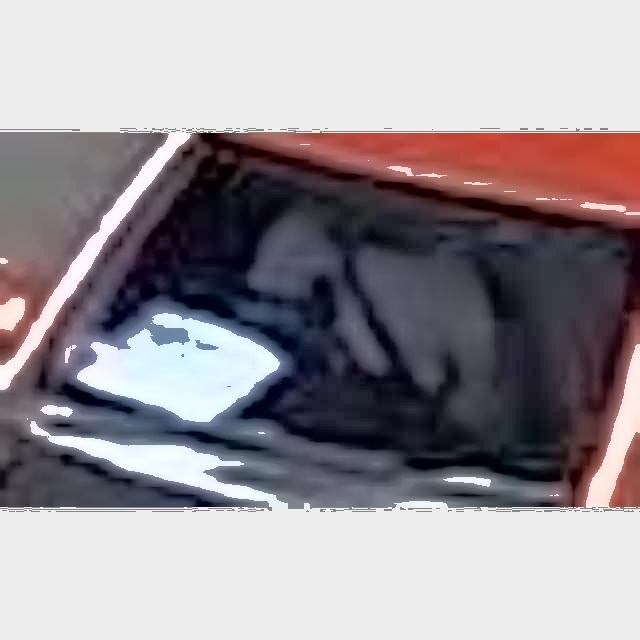pakai: (226, 195, 484, 406)
